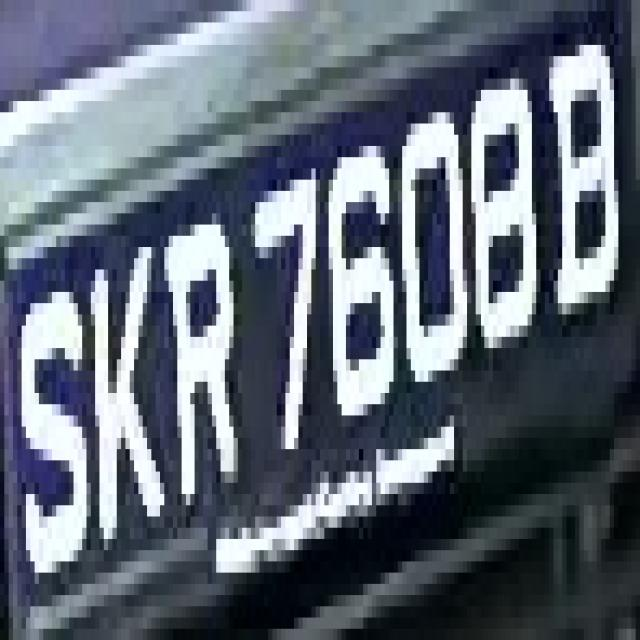0: (406, 78, 488, 416)
6: (320, 146, 415, 472)
7: (251, 180, 324, 505)
8: (458, 56, 545, 393)
B: (545, 34, 627, 348)
K: (86, 224, 164, 562)
R: (151, 202, 251, 528)
S: (9, 280, 95, 618)
